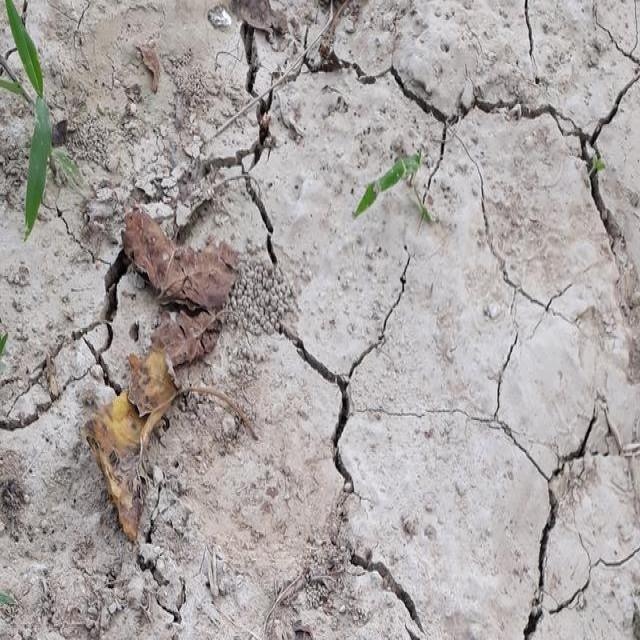weed: (8, 1, 54, 237), (353, 158, 417, 224)
